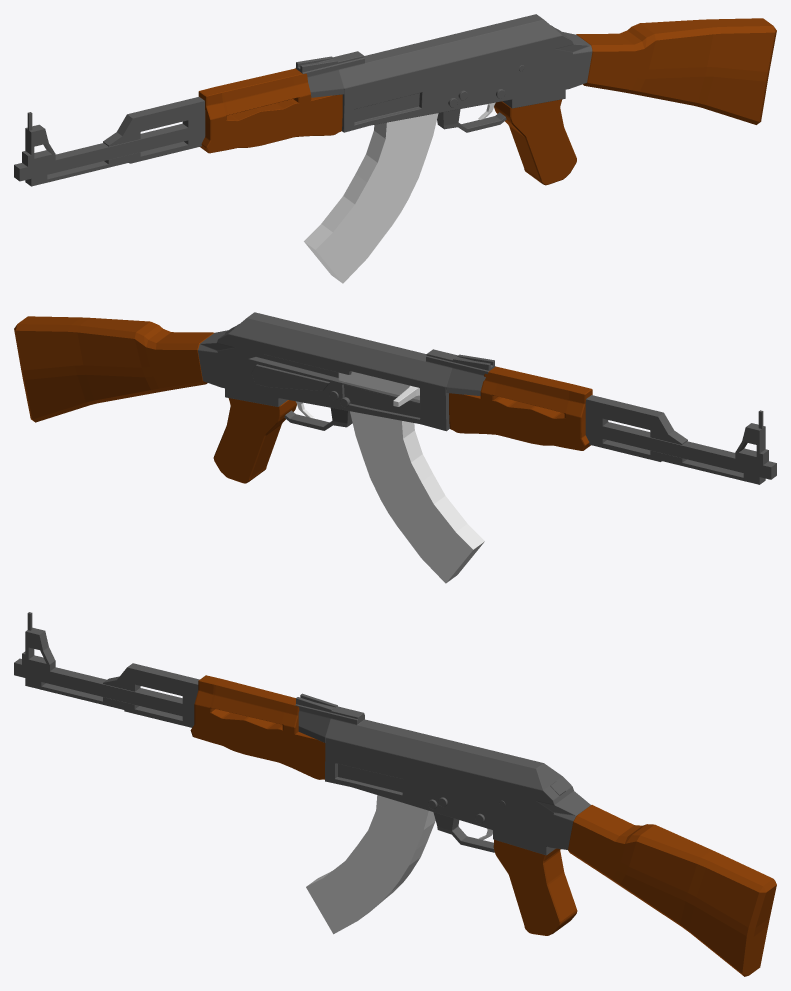
3 views of the same model, one above another, from view 1: azimuth 30°, elevation 25°; view 2: azimuth 150°, elevation 25°; view 3: azimuth 330°, elevation 25° (orthographic).
Parts seen in each view (by area): view 1: Cube.001, Cube, Cube.007, Cube.005, Cube.006, Cube.004; view 2: Cube.001, Cube, Cube.007, Cube.005, Cube.006, Cube.004, Cube.002; view 3: Cube.001, Cube, Cube.007, Cube.005, Cube.006, Cube.004.
Part boxes in pixels (x1,y1,x2,y2): Cube.001: (295, 14, 592, 132); Cube: (576, 18, 776, 124); Cube.007: (304, 113, 438, 283); Cube.005: (198, 68, 342, 153); Cube.006: (14, 97, 205, 186); Cube.004: (494, 99, 576, 185); Cube.001: (198, 312, 495, 431); Cube: (14, 316, 213, 422); Cube.007: (350, 411, 484, 583); Cube.005: (449, 366, 592, 450); Cube.006: (585, 395, 776, 484); Cube.004: (213, 398, 296, 483); Cube.002: (338, 371, 419, 406); Cube.001: (295, 693, 590, 855); Cube: (568, 805, 776, 976); Cube.007: (306, 795, 435, 934); Cube.005: (190, 675, 325, 779); Cube.006: (14, 612, 199, 727); Cube.004: (493, 839, 577, 935).
Bounding box in the file's own units: 4.69 × 1.44 × 0.4123.
